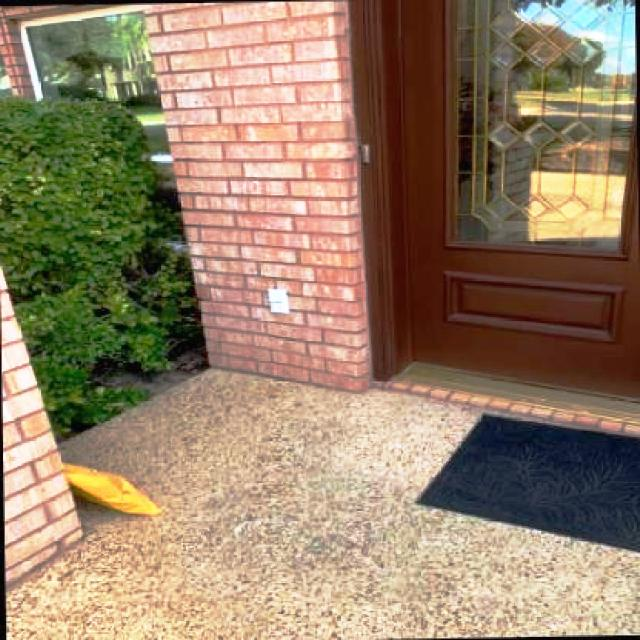Box: (61, 459, 159, 518)
